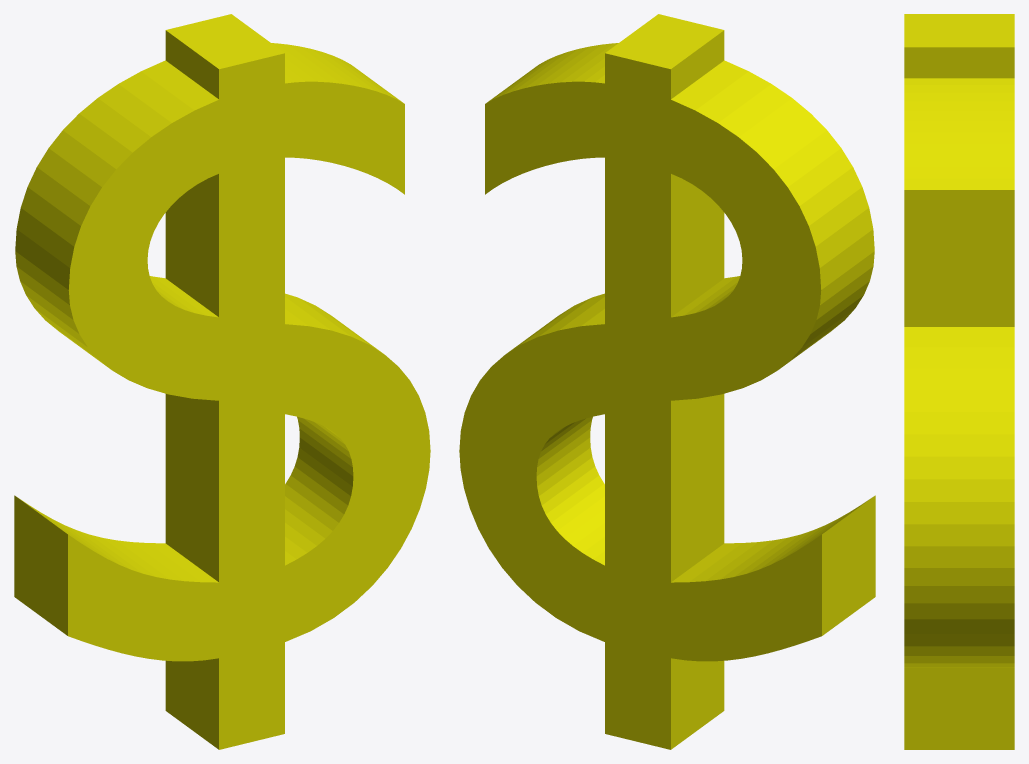
The model's file is dollar.fbx.
3 views of the same model, side by side, from view 1: azimuth 30°, elevation 25°; view 2: azimuth 150°, elevation 25°; view 3: azimuth 270°, elevation 25° (orthographic). The views are drawn at different scales.
Visible parts, largest first — view 1: Object; view 2: Object; view 3: Object.
Part boxes in pixels (<box>): Object: <box>14,14,430,749</box>; Object: <box>459,14,875,749</box>; Object: <box>904,14,1014,749</box>.
Bounding box in the file's own units: 62.47 × 112 × 15.99.
